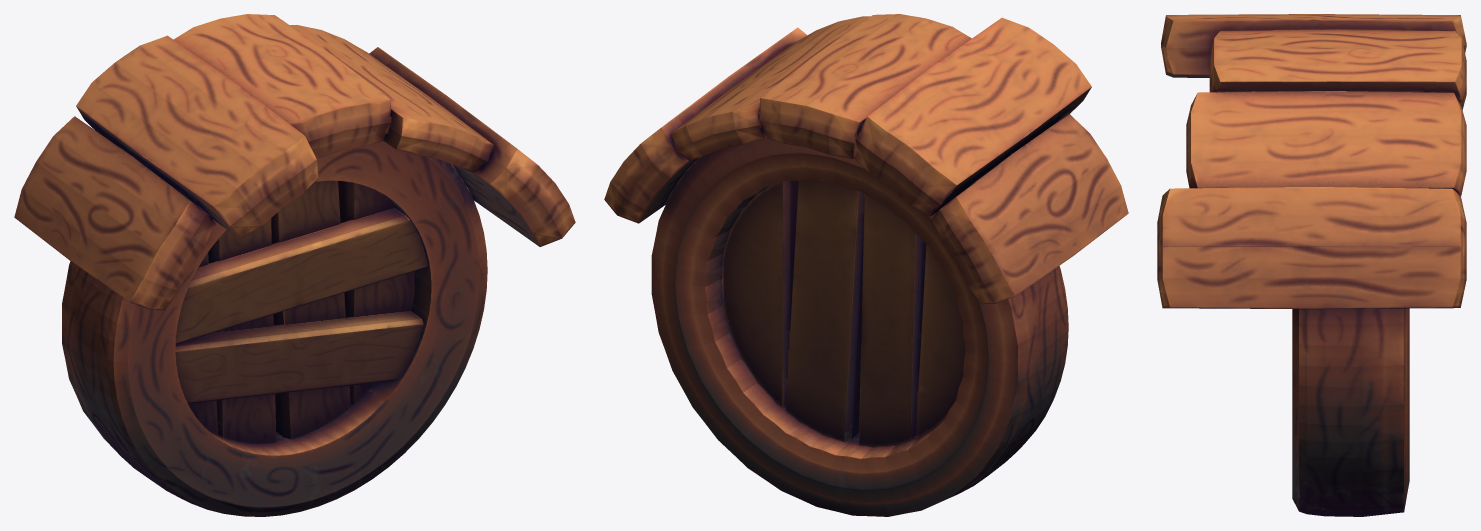
Rendered from DoorRoundWood.dae.
3 renders of one model, left to right at view 1: azimuth 30°, elevation 25°; view 2: azimuth 150°, elevation 25°; view 3: azimuth 270°, elevation 25°, orthographic. The views are drawn at different scales.
Parts seen in each view (by area): view 1: Circle; view 2: Circle; view 3: Circle.
Part boxes in pixels (x1,y1,x2,y2): Circle: (14,14,575,516); Circle: (604,14,1128,516); Circle: (1157,14,1466,516).
Bounding box in the file's own units: 3.34 × 2.08 × 3.32.
1 material, 1 textured.
